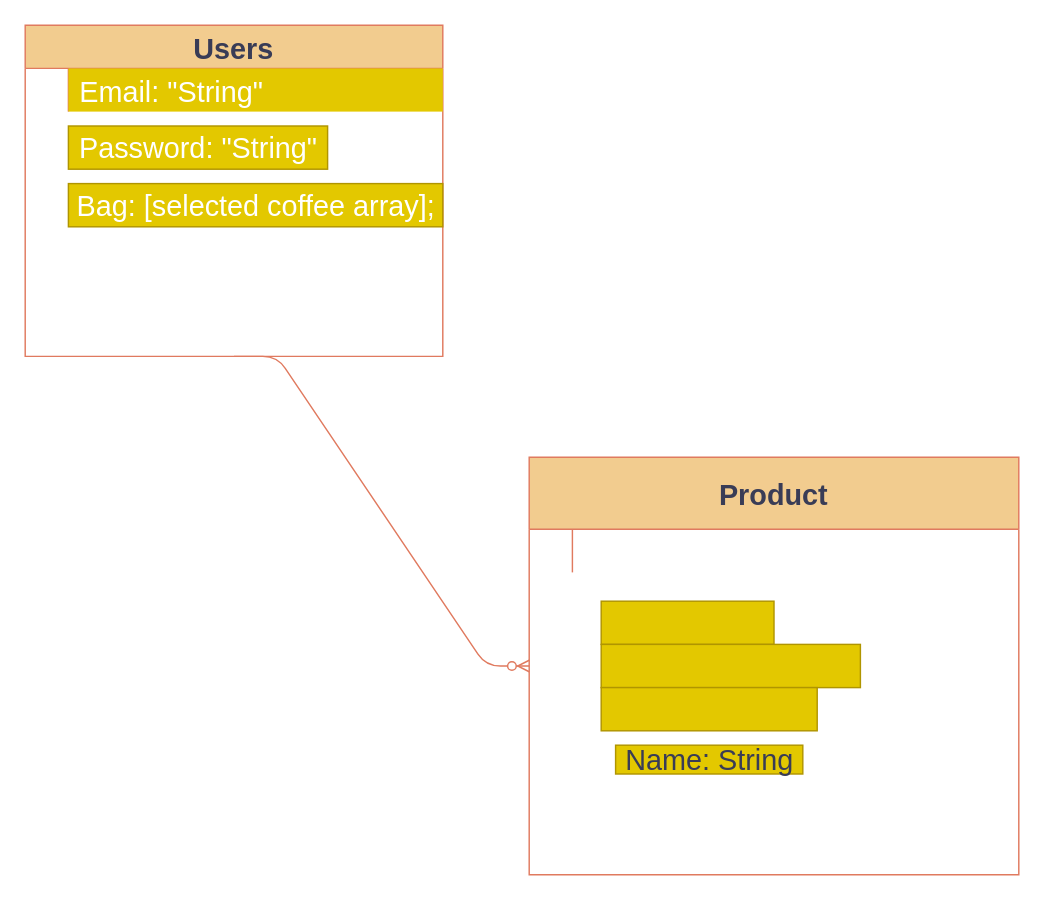
Image size: 1044x900. Some labels were removed from this diagram. Here are the shapes that lost their labels. From the top down, the centre of each, then its label:
point (687, 622): Price: Value
point (730, 665): Description: String
point (708, 708): Img: String (url)
